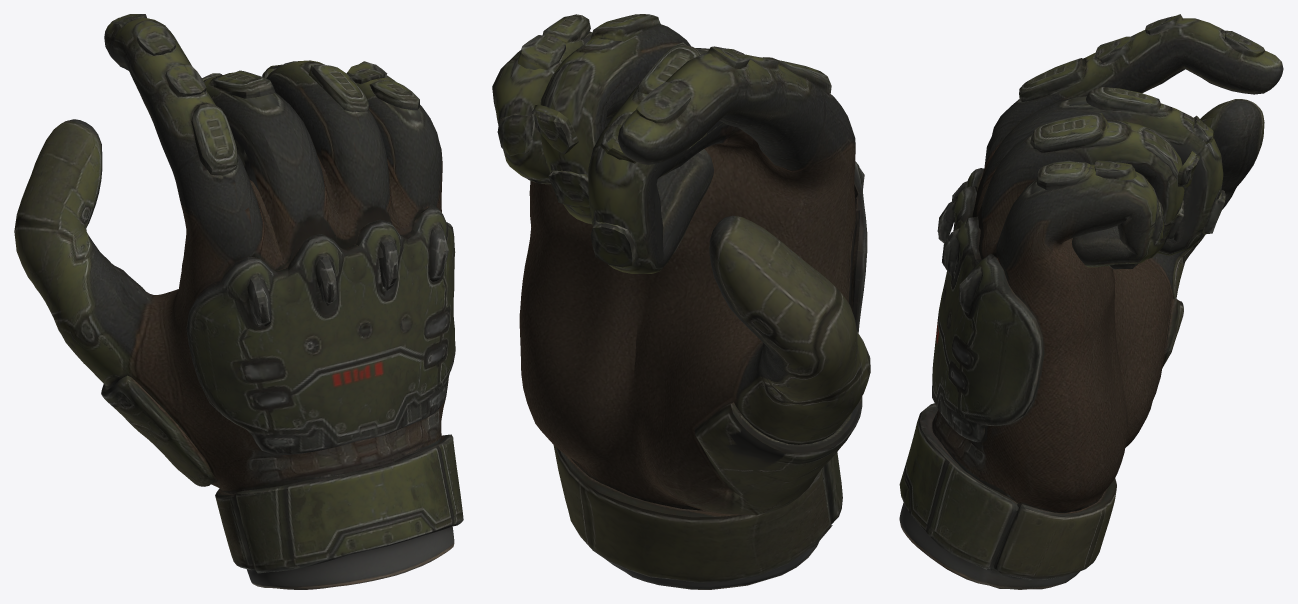
Rendered from DOOM_RIGHT_HAND_GUN.glb.
The picture shows the model from 3 angles, left to right: view 1: azimuth 30°, elevation 25°; view 2: azimuth 150°, elevation 25°; view 3: azimuth 270°, elevation 25°; orthographic projection. The views are drawn at different scales.
Visible parts, largest first — view 1: Mesh0.002; view 2: Mesh0.002; view 3: Mesh0.002.
Boxes of the visible parts, x1,y1,x2,y2 form: Mesh0.002: (14,14,463,589); Mesh0.002: (492,14,870,589); Mesh0.002: (899,14,1283,589).
Bounding box in the file's own units: 0.5267 × 0.7408 × 0.5184.
1 material, 1 textured.
